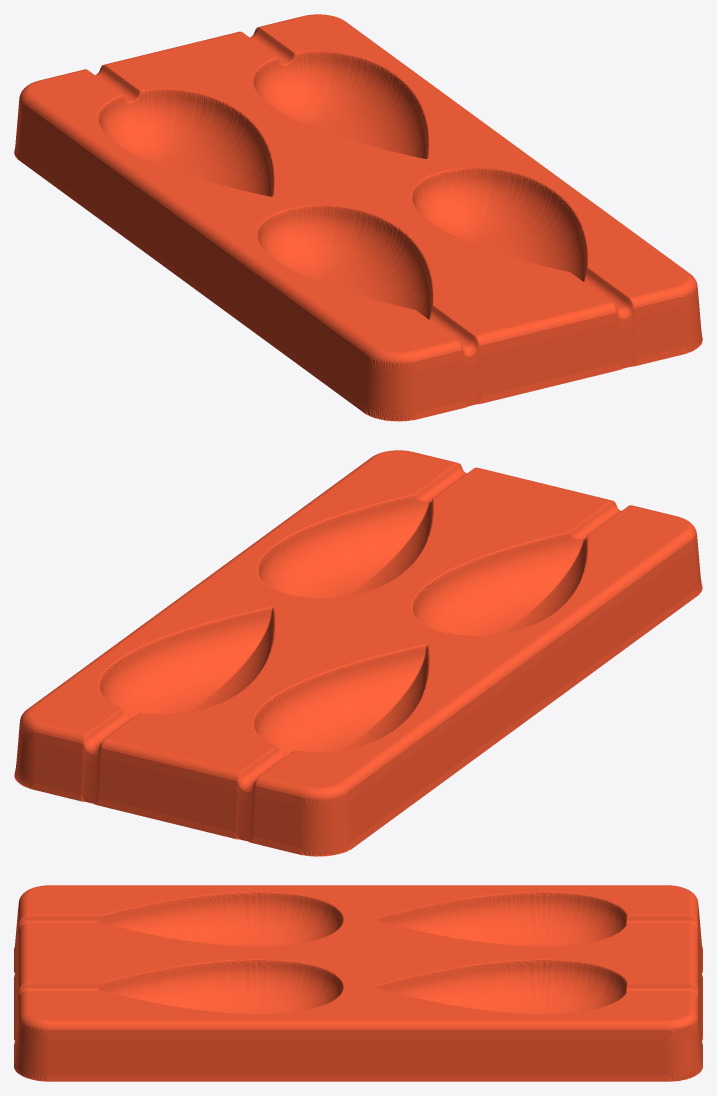
The model's file is mold.glb.
The picture shows the model from 3 angles, top to bottom: view 1: azimuth 30°, elevation 25°; view 2: azimuth 150°, elevation 25°; view 3: azimuth 270°, elevation 25°; orthographic projection. The views are drawn at different scales.
Parts seen in each view (by area): view 1: geometry_0; view 2: geometry_0; view 3: geometry_0.
Part boxes in pixels (x1,y1,x2,y2): geometry_0: (14,14,702,421); geometry_0: (14,450,702,856); geometry_0: (14,885,702,1081).
Size of the model in its own units: 0.0869 by 0.0155 by 0.1735.
